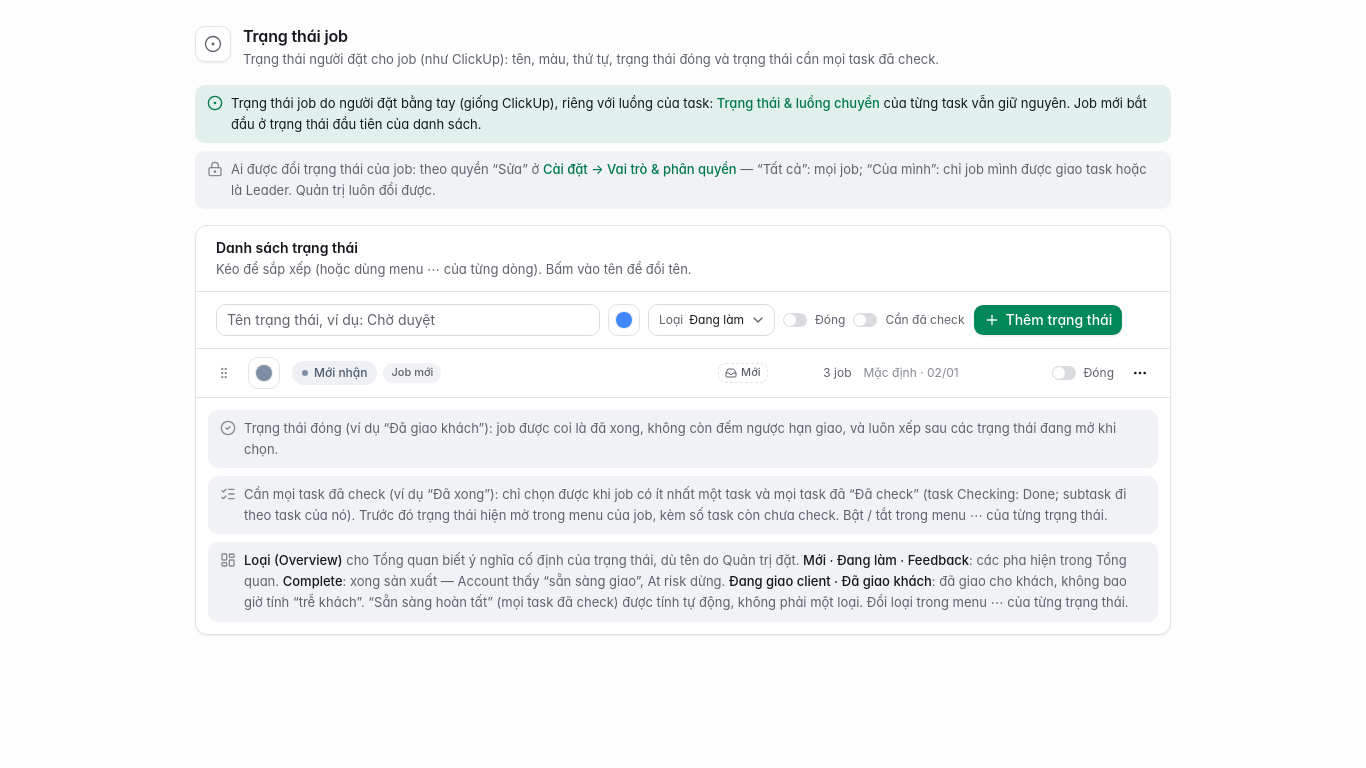
Test: Cấu hình → Trạng thái job (PD-038 / PD-045) › the last remaining status cannot be deleted
The width and height of the screenshot is (1366, 768).
Expected: the button "Mới nhận Job mới Mới" is shown, [292,361,768,385]
Click the button named "Tùy chọn cho Mới nhận": {"x": 1140, "y": 373} [1126,359,1154,387]
(page scrolled)
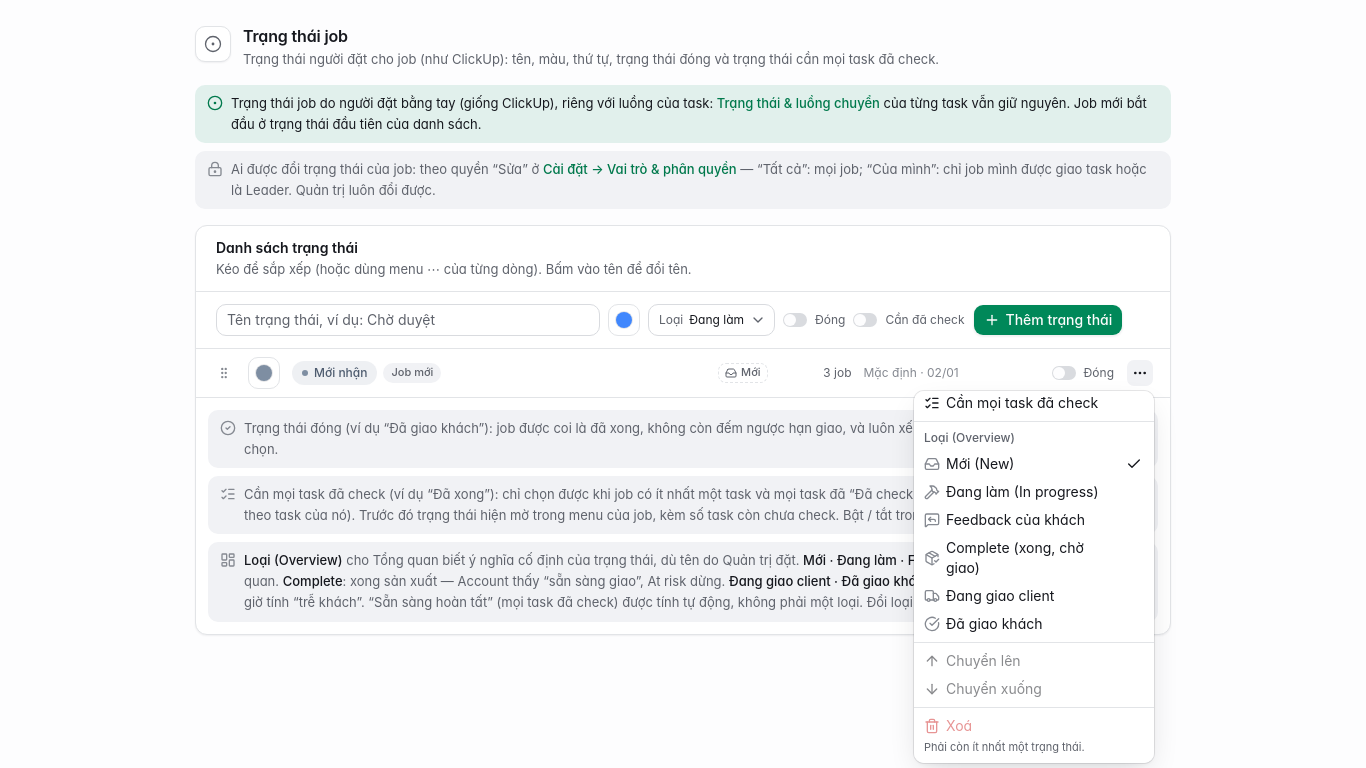
Now the text "Phải còn ít nhất một trạng thái." is shown, box [924,740,1085,754]
